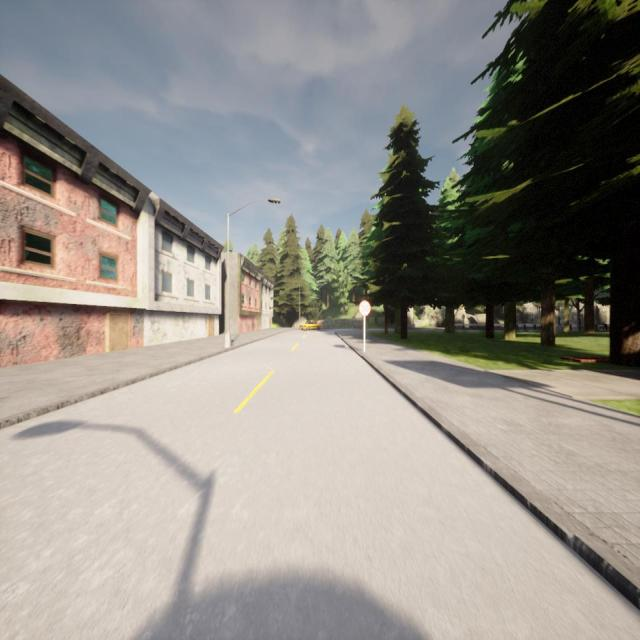Traffic_Signs: (358, 300, 371, 316)
Vehicle: (298, 320, 322, 331)
